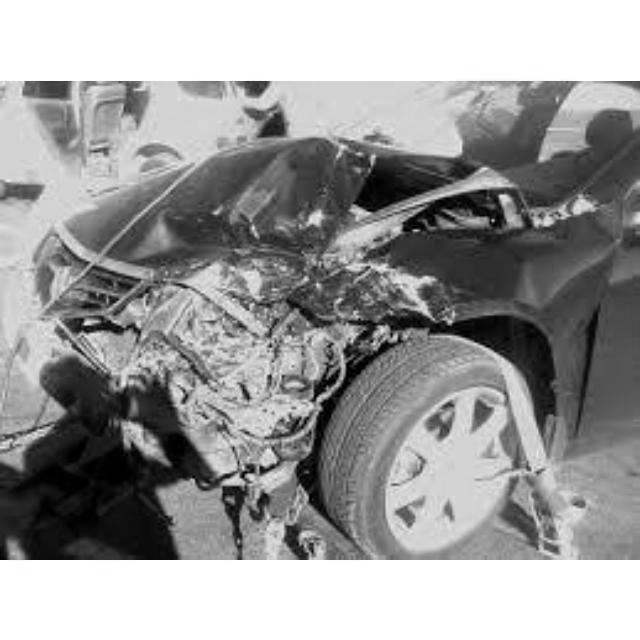bonnet-dent: (129, 113, 504, 295)
fender-dent: (470, 234, 603, 384)
